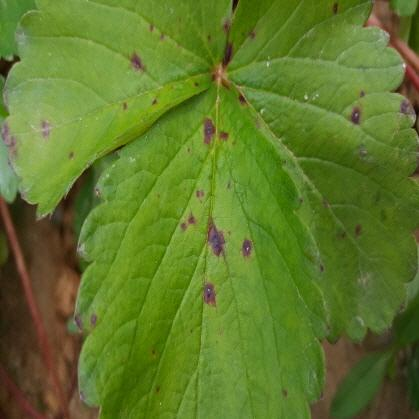Leaf Spot: (73, 76, 330, 418), (219, 0, 418, 347), (0, 0, 237, 223)
